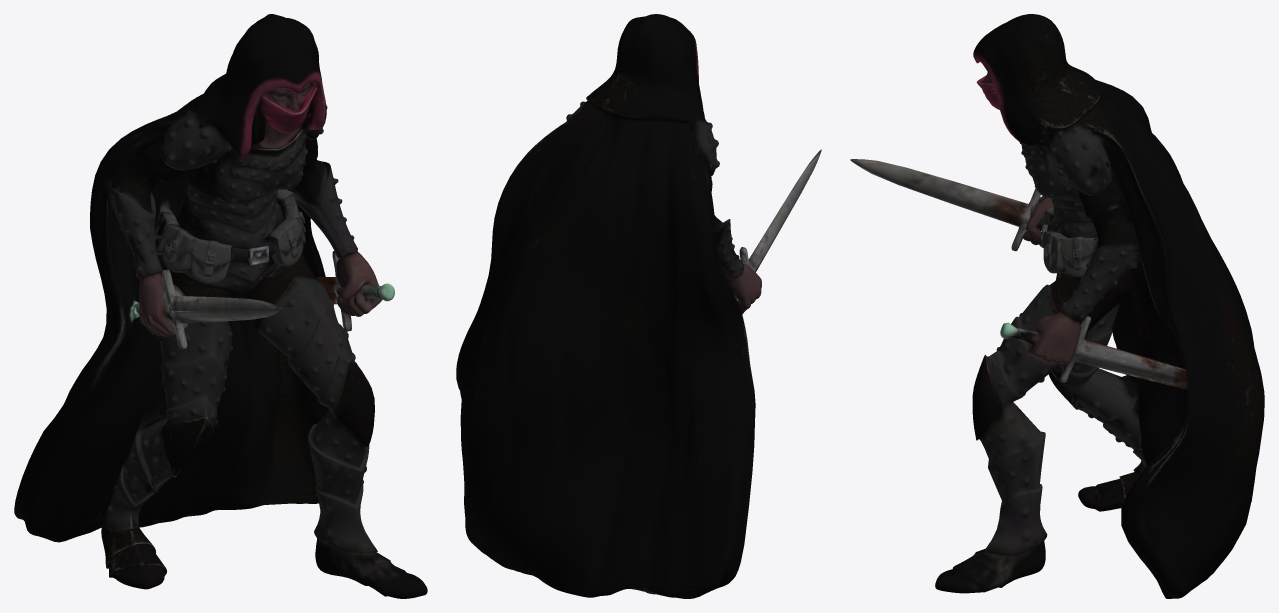
Rendered from MZ4250 - Black Viper - Human Female Thief.glb.
3 views of the same model, side by side, from view 1: azimuth 30°, elevation 25°; view 2: azimuth 150°, elevation 25°; view 3: azimuth 270°, elevation 25° (orthographic). The views are drawn at different scales.
Visible parts, largest first — view 1: default; view 2: default; view 3: default.
Part boxes in pixels (x1,y1,x2,y2): default: [14, 14, 427, 598]; default: [456, 14, 821, 598]; default: [850, 14, 1264, 598].
Bounding box in the file's own units: 0.6178 × 1.07 × 0.7592.
Materials: 1 (1 with a texture image).
